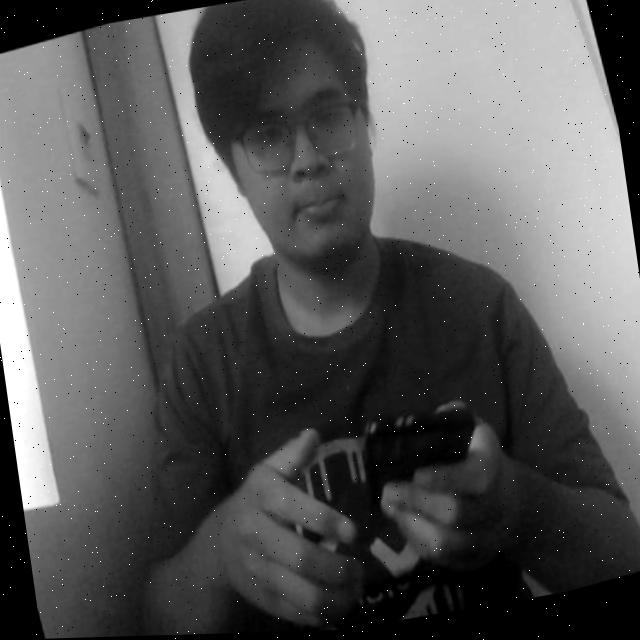phone: (346, 382, 497, 540)
